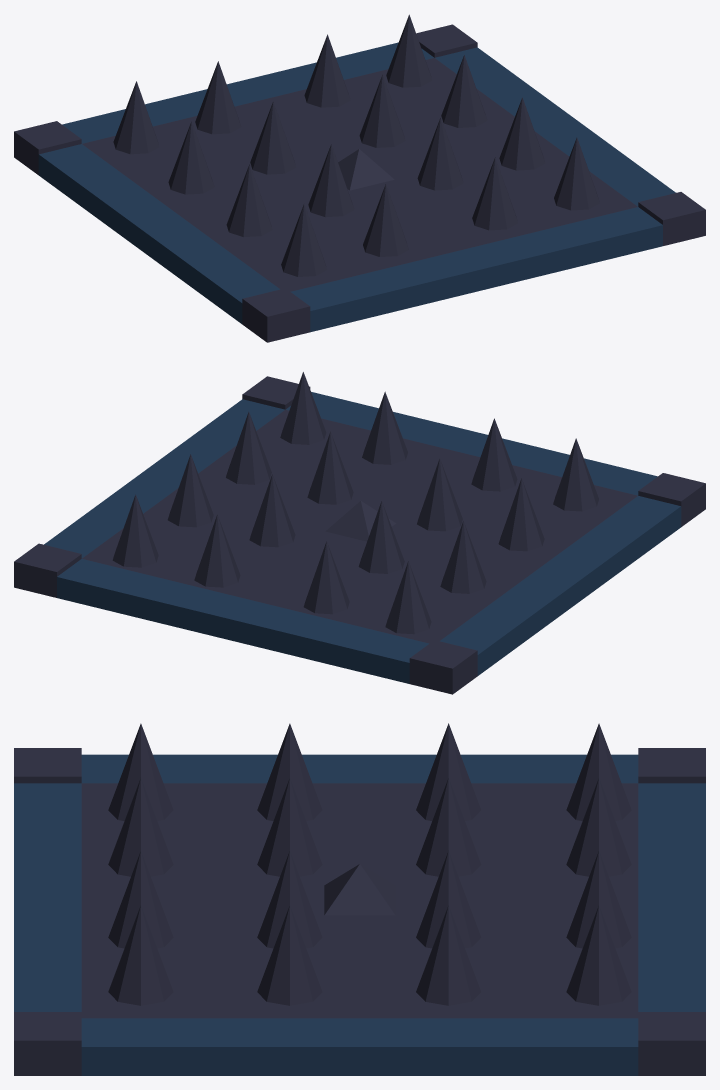
File: 3D_Trappola.fbx
The picture shows the model from 3 angles, top to bottom: view 1: azimuth 30°, elevation 25°; view 2: azimuth 150°, elevation 25°; view 3: azimuth 270°, elevation 25°; orthographic projection. The views are drawn at different scales.
Parts seen in each view (by area): view 1: BAse.002, BAse, Punte; view 2: BAse.002, BAse, Punte; view 3: BAse.002, BAse, Punte.
Part boxes in pixels (left/top/right/bottom): BAse.002: left=14, top=24, right=705, bottom=342; BAse: left=38, top=42, right=675, bottom=332; Punte: left=113, top=14, right=599, bottom=276; BAse.002: left=14, top=376, right=705, bottom=694; BAse: left=44, top=392, right=681, bottom=683; Punte: left=112, top=372, right=598, bottom=634; BAse.002: left=14, top=748, right=705, bottom=1075; BAse: left=14, top=754, right=705, bottom=1075; Punte: left=108, top=723, right=631, bottom=1005.
Size of the model in its own units: 304 by 56.27 by 304.
